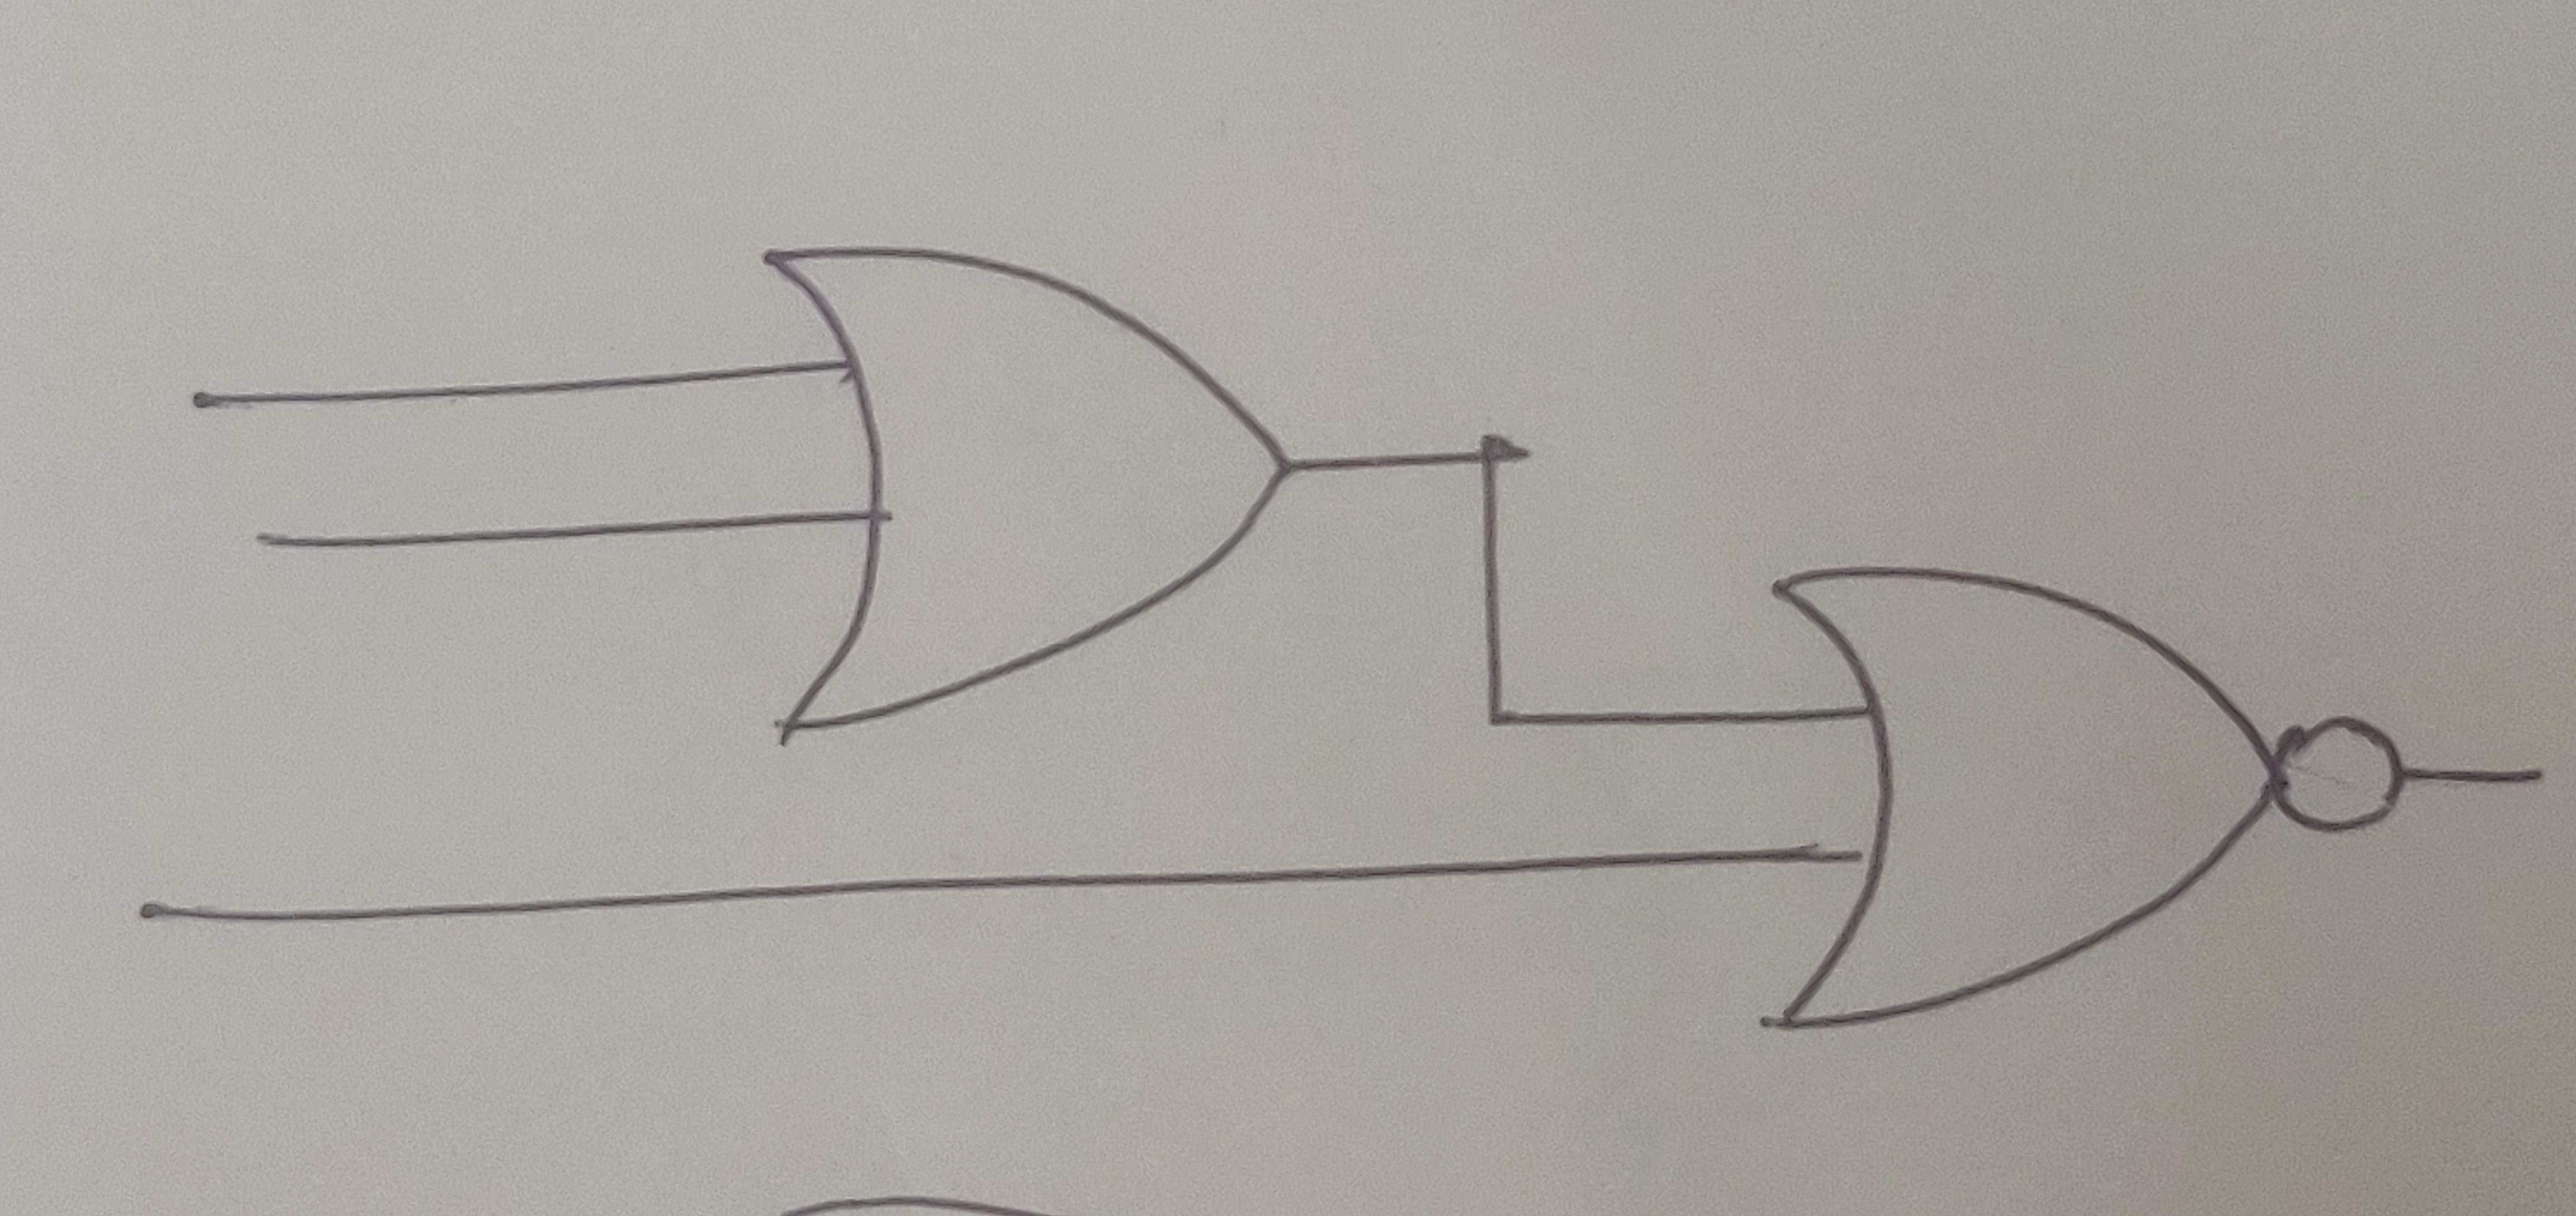not: (2270, 713, 2405, 841)
or: (752, 237, 1291, 746), (1761, 562, 2280, 1032)
